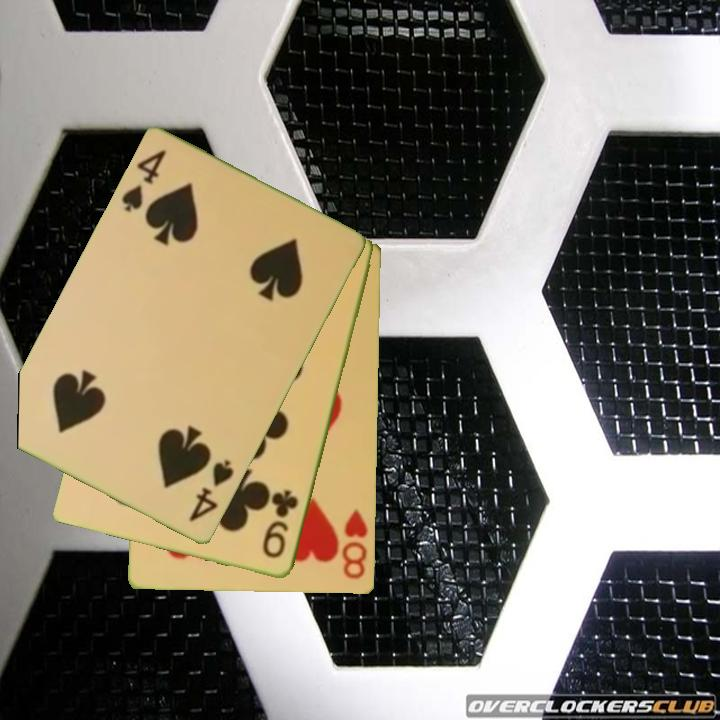4s: (185, 456, 237, 525), (118, 146, 169, 216)
8h: (339, 505, 371, 582)
9c: (259, 487, 302, 562)
